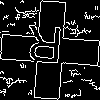R: (25, 25, 65, 73)
